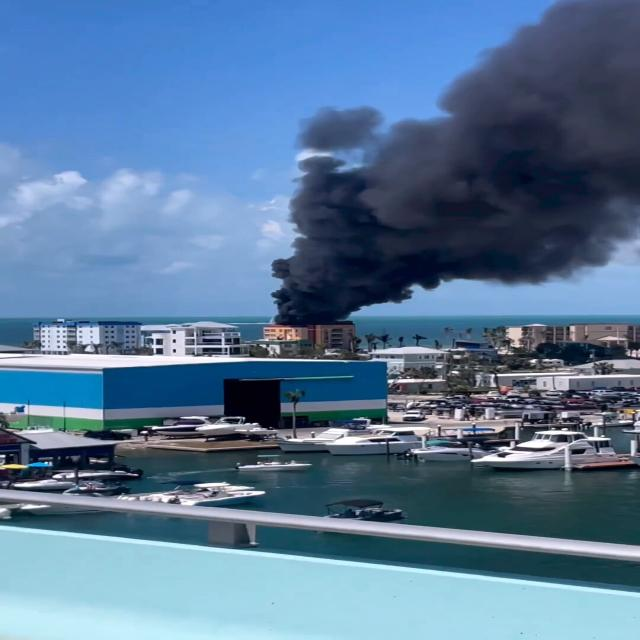smoke: (290, 126, 639, 279), (453, 4, 640, 121)
